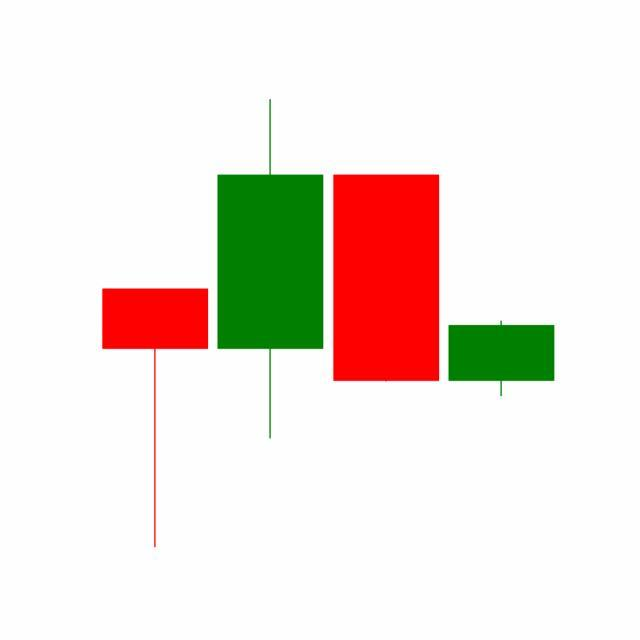Marubozu: (329, 173, 445, 385)
